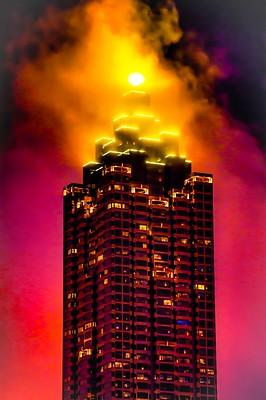building: (56, 87, 218, 400)
